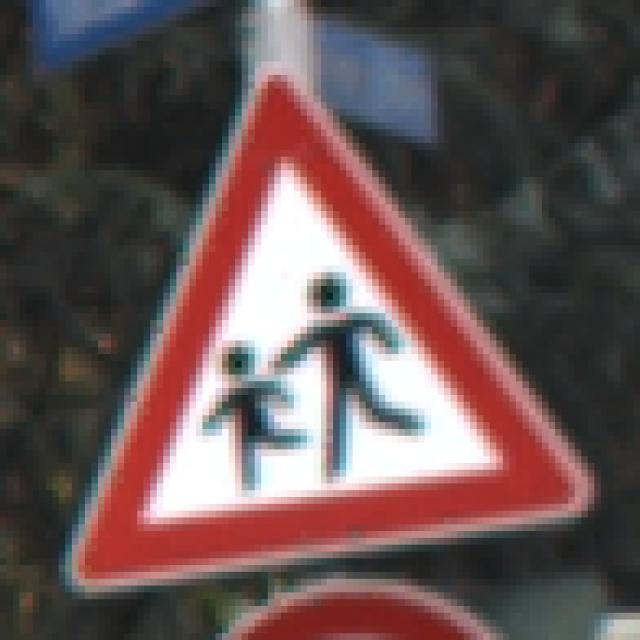school ahead: (61, 62, 600, 609)
